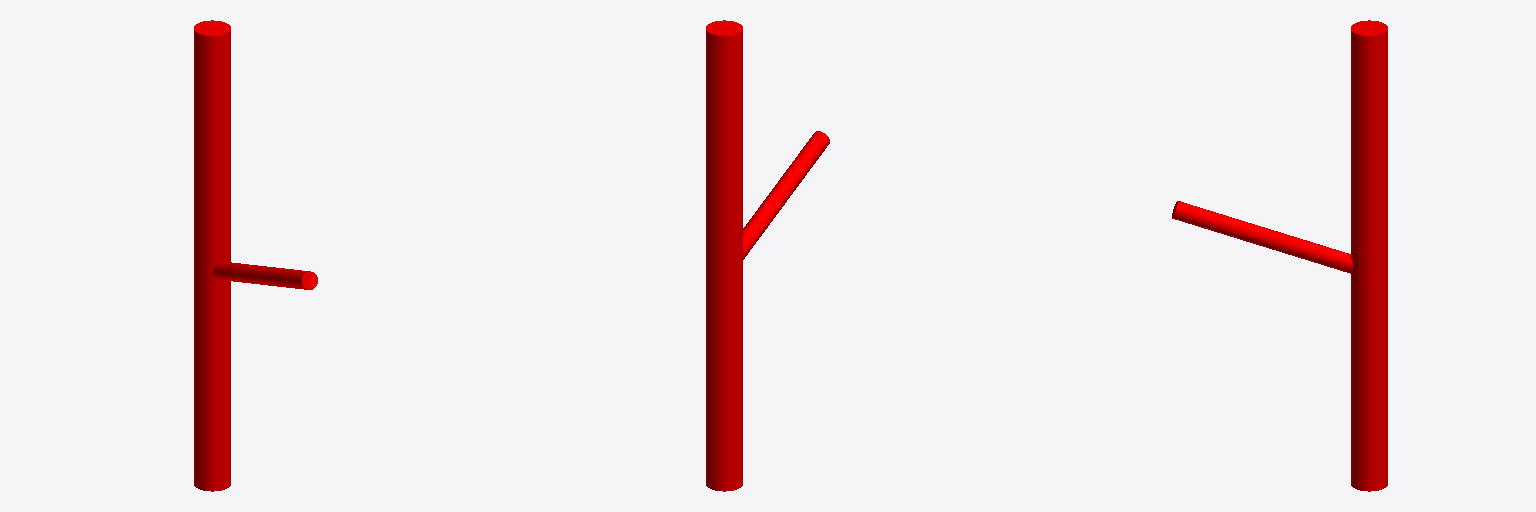
The robot description file, URDF, robot "tree.urdf":
<?xml version="1.0" ?>
<robot name="tree.urdf">
  <link name="baseLink">
    <inertial>
      <origin rpy="0 0 0" xyz="0 0 0"/>
       <mass value=".1"/>
       <inertia ixx="1" ixy="0" ixz="0" iyy="1" iyz="0" izz="1"/>
    </inertial>
    <contact>
      <lateral_friction value="1.0"/>
      <inertia_scaling value="3.0"/>
    </contact>
    <visual>
      <origin rpy="0 0 0" xyz="0 0 0"/>
      <geometry>
        <mesh filename="3.stl" scale="1 1 1" />
      </geometry>
      <material name="red">
        <color rgba="1 0 0 1"/>
      </material>
    </visual>
    <collision>
      <origin rpy="0 0 0" xyz="0 0 0"/>
      <geometry>
        <mesh filename="3_convex.obj" scale="1 1 1" />
      </geometry>
    </collision>
  </link>
</robot>

--- What the picture shows (computed from the rendered views, not written in the file) ---
The picture shows the robot from 3 angles, left to right: view 1: azimuth 30°, elevation 25°; view 2: azimuth 150°, elevation 25°; view 3: azimuth 270°, elevation 25°; orthographic projection.
Model tree.urdf with 1 links and 0 joints (none), rooted at baseLink, posed every joint at zero.
Visible links, largest first — view 1: baseLink; view 2: baseLink; view 3: baseLink.
Boxes of the visible links, box(x1,y1,x2,y2) form: baseLink: box(194, 20, 317, 491); baseLink: box(706, 20, 829, 491); baseLink: box(1172, 20, 1387, 491).
Size in the robot's own frame: 0.037 by 0.2136 by 0.4956 metres.
1 mesh visuals loaded from 1 distinct referenced files (1 binary STL).